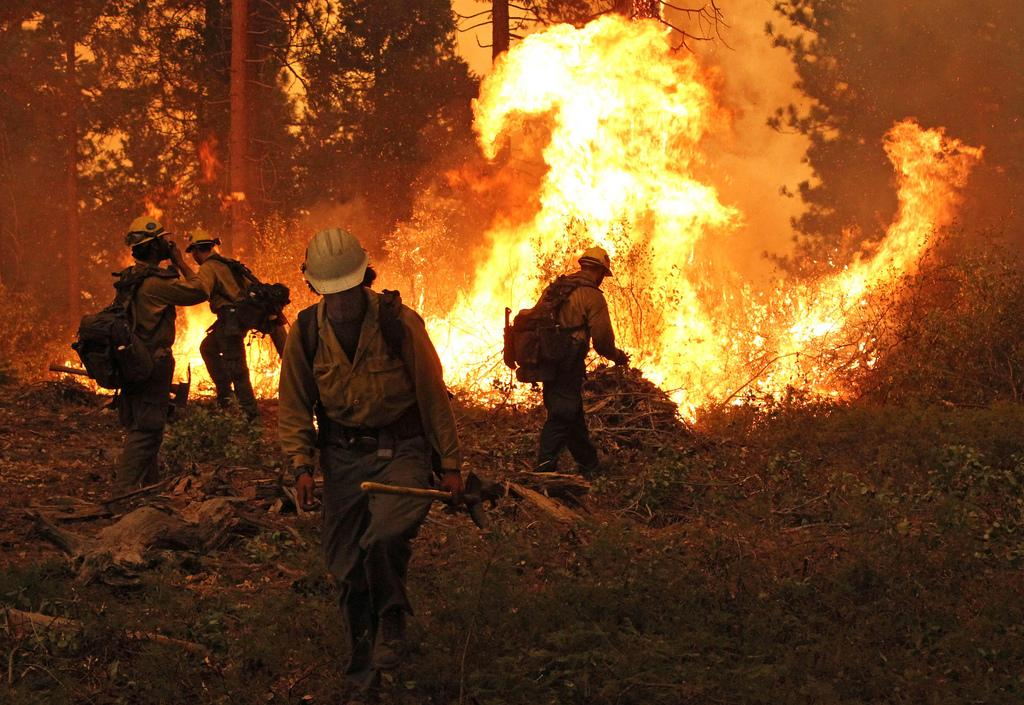fire: (632, 272, 887, 388), (507, 27, 693, 150), (545, 160, 707, 247), (440, 248, 523, 375), (893, 127, 973, 245), (168, 307, 208, 378)
